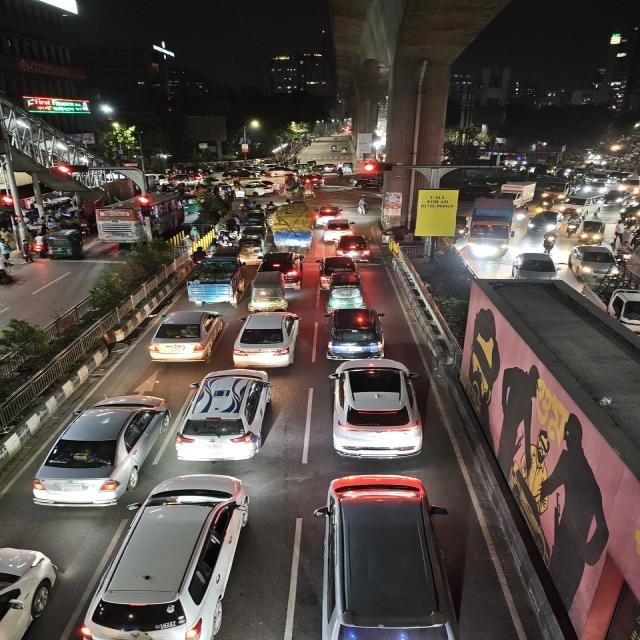bus: (94, 192, 192, 244)
car: (80, 472, 254, 640), (300, 474, 459, 640), (28, 391, 170, 510), (325, 356, 428, 466), (173, 369, 280, 467), (0, 542, 65, 640), (146, 306, 226, 366), (229, 309, 305, 370), (324, 305, 389, 359), (566, 243, 624, 282), (508, 250, 561, 284), (315, 255, 358, 285), (261, 250, 308, 276), (334, 234, 374, 260), (561, 196, 611, 215), (527, 210, 561, 234), (320, 219, 354, 241), (240, 179, 278, 197), (315, 205, 346, 223), (350, 176, 383, 190), (619, 176, 640, 194)
cng: (247, 270, 289, 312), (326, 270, 365, 310), (42, 228, 86, 260), (577, 219, 606, 245)
motorcycle: (0, 258, 20, 288), (540, 231, 558, 254)
pedestrian: (355, 194, 371, 216), (0, 236, 13, 263)
pickup_van: (586, 266, 640, 336), (184, 253, 246, 304), (270, 203, 314, 251), (542, 180, 577, 204)
rickshaw: (238, 238, 264, 262), (280, 181, 301, 198), (301, 182, 317, 198)
truck: (464, 197, 520, 261), (496, 178, 536, 206)
